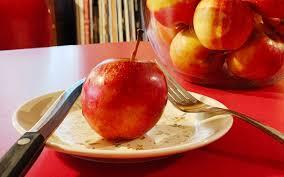Apple: (84, 54, 163, 138), (166, 26, 222, 79), (195, 1, 246, 49)
